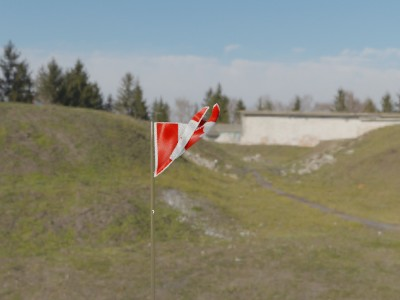Canada flag: (153, 103, 222, 181)
